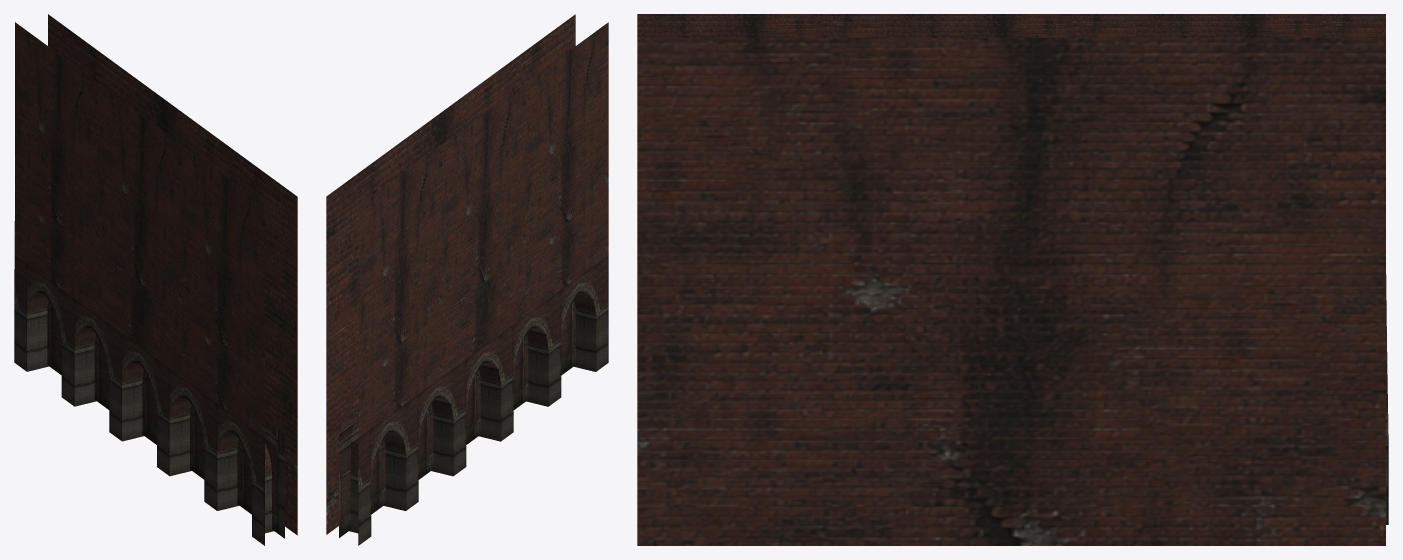
Rendered from TrainStationColumns.fbx.
The picture shows the model from 3 angles, left to right: view 1: azimuth 30°, elevation 25°; view 2: azimuth 150°, elevation 25°; view 3: azimuth 270°, elevation 25°; orthographic projection. The views are drawn at different scales.
Parts seen in each view (by area): view 1: ExitColumns; view 2: ExitColumns; view 3: ExitColumns.
Boxes of the visible parts, x1,y1,x2,y2 form: ExitColumns: (14, 14, 297, 545); ExitColumns: (326, 14, 608, 545); ExitColumns: (637, 14, 1388, 545).
Size of the model in its own units: 0.4782 by 4.73 by 6.3.
